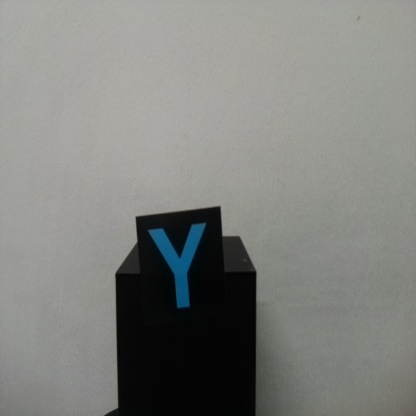id_14: (137, 215, 224, 322)
